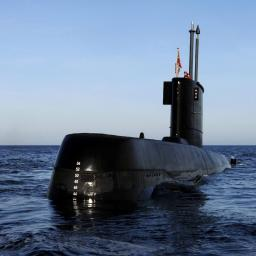submarine: (44, 19, 239, 207)
